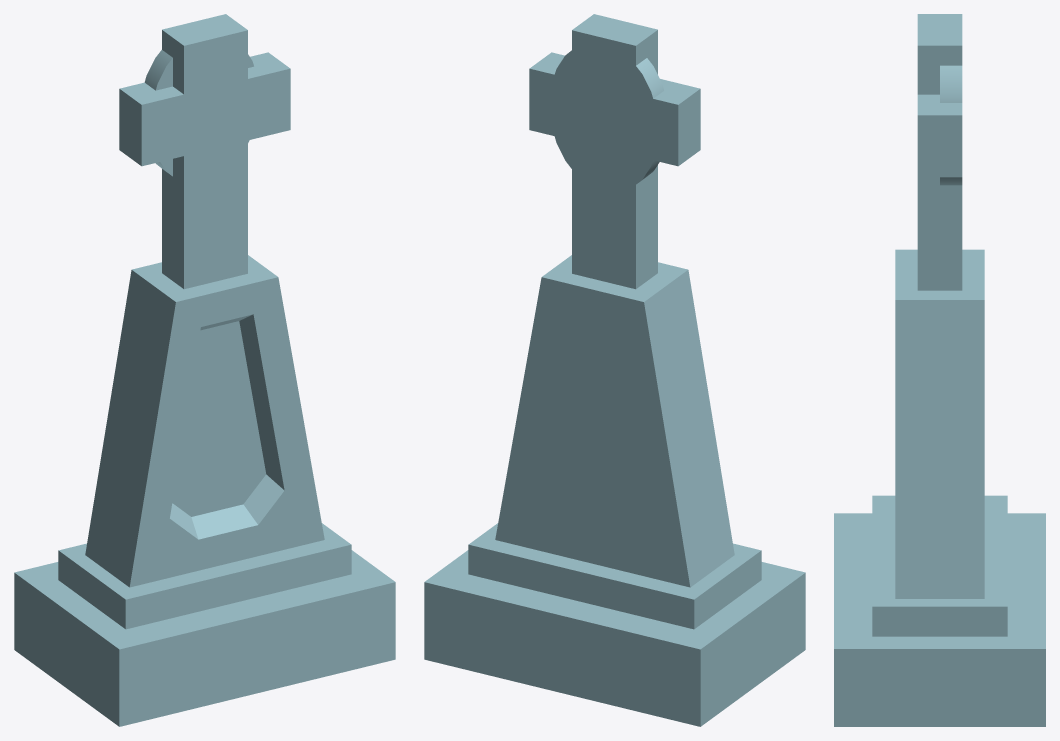
Rendered from gravestoneCross.dae.
3 views of the same model, side by side, from view 1: azimuth 30°, elevation 25°; view 2: azimuth 150°, elevation 25°; view 3: azimuth 270°, elevation 25° (orthographic).
Parts seen in each view (by area): view 1: gravestoneCross; view 2: gravestoneCross; view 3: gravestoneCross.
Part boxes in pixels (box(x1,y1,x2,y2)): gravestoneCross: box(14, 14, 395, 726); gravestoneCross: box(424, 14, 805, 726); gravestoneCross: box(834, 14, 1045, 726).
Bounding box in the file's own units: 0.4415 × 0.9543 × 0.2913.
